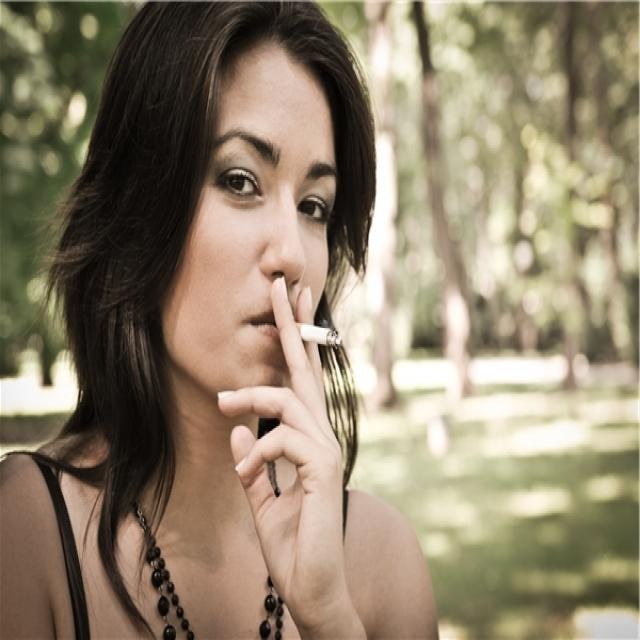smoking: (282, 321, 341, 343)
